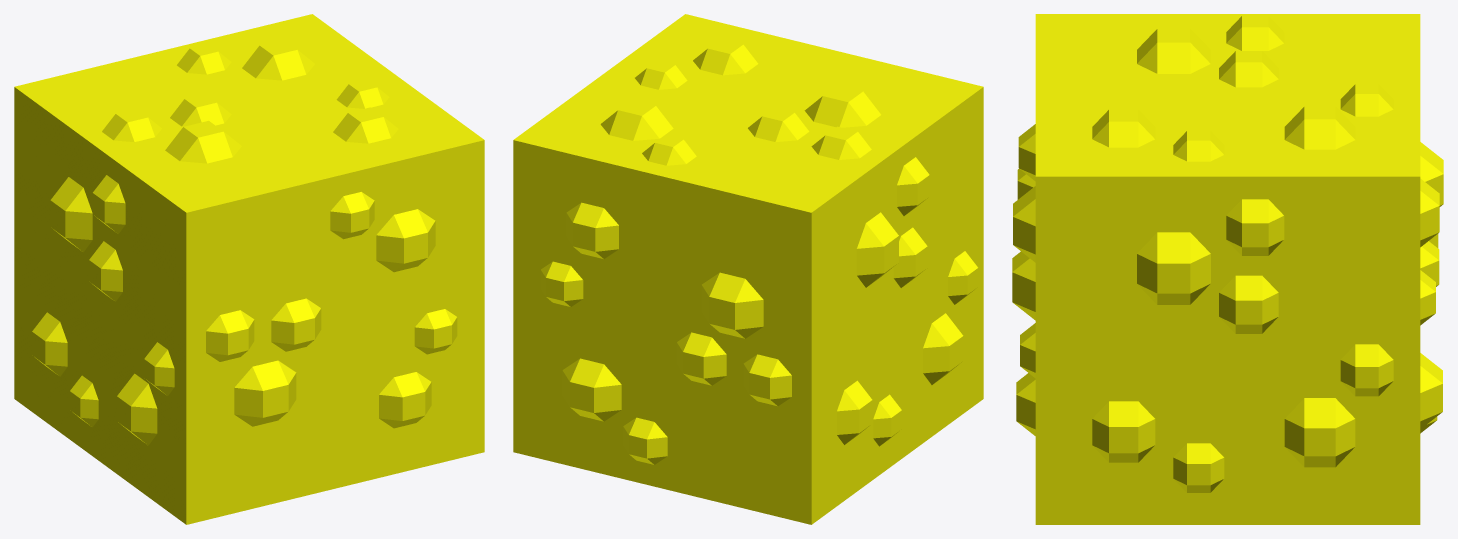
Rendered from Block_Coal.glb.
3 views of the same model, side by side, from view 1: azimuth 30°, elevation 25°; view 2: azimuth 150°, elevation 25°; view 3: azimuth 270°, elevation 25° (orthographic). The views are drawn at different scales.
Parts seen in each view (by area): view 1: Block_Coal; view 2: Block_Coal; view 3: Block_Coal.
Part boxes in pixels (bbox=[...]): Block_Coal: bbox=[14, 14, 484, 524]; Block_Coal: bbox=[513, 14, 983, 524]; Block_Coal: bbox=[1012, 14, 1443, 524].
Bounding box in the file's own units: 2.24 × 2.24 × 2.24.
Materials: 1 (1 with a texture image).
